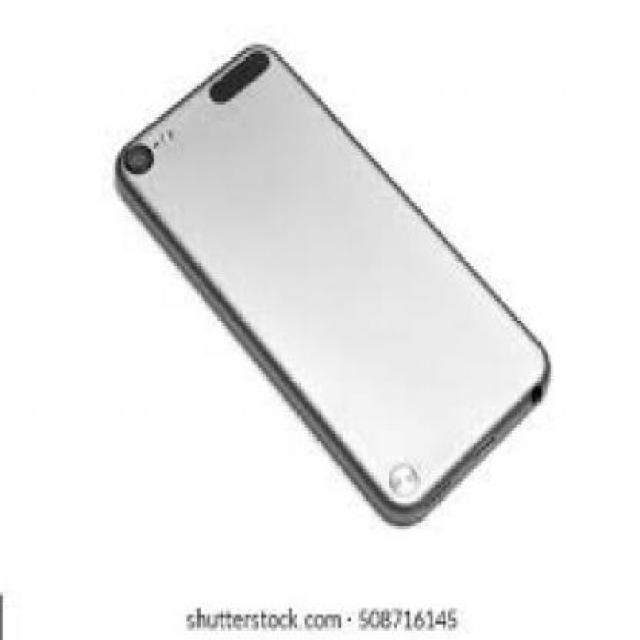fake: (115, 44, 551, 530)
